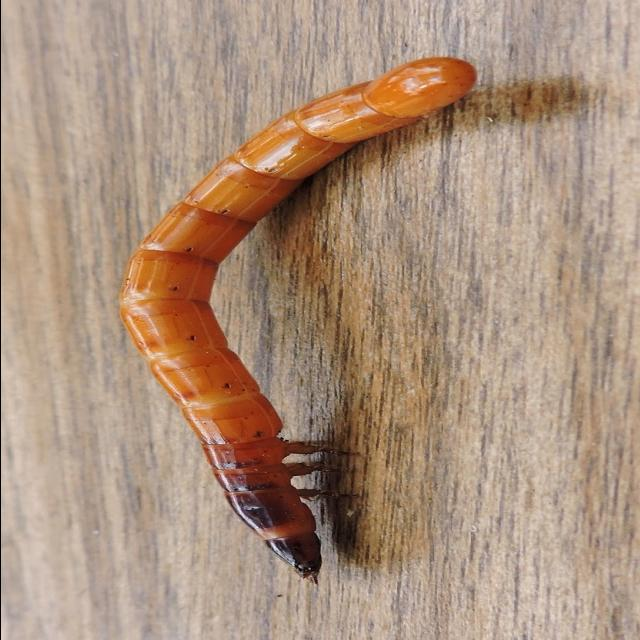wireworm: (130, 52, 496, 584)
